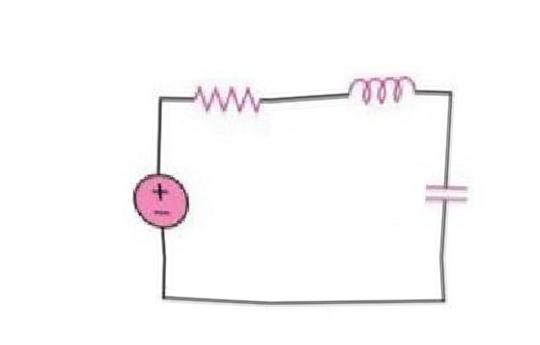Battery: (115, 162, 209, 251)
